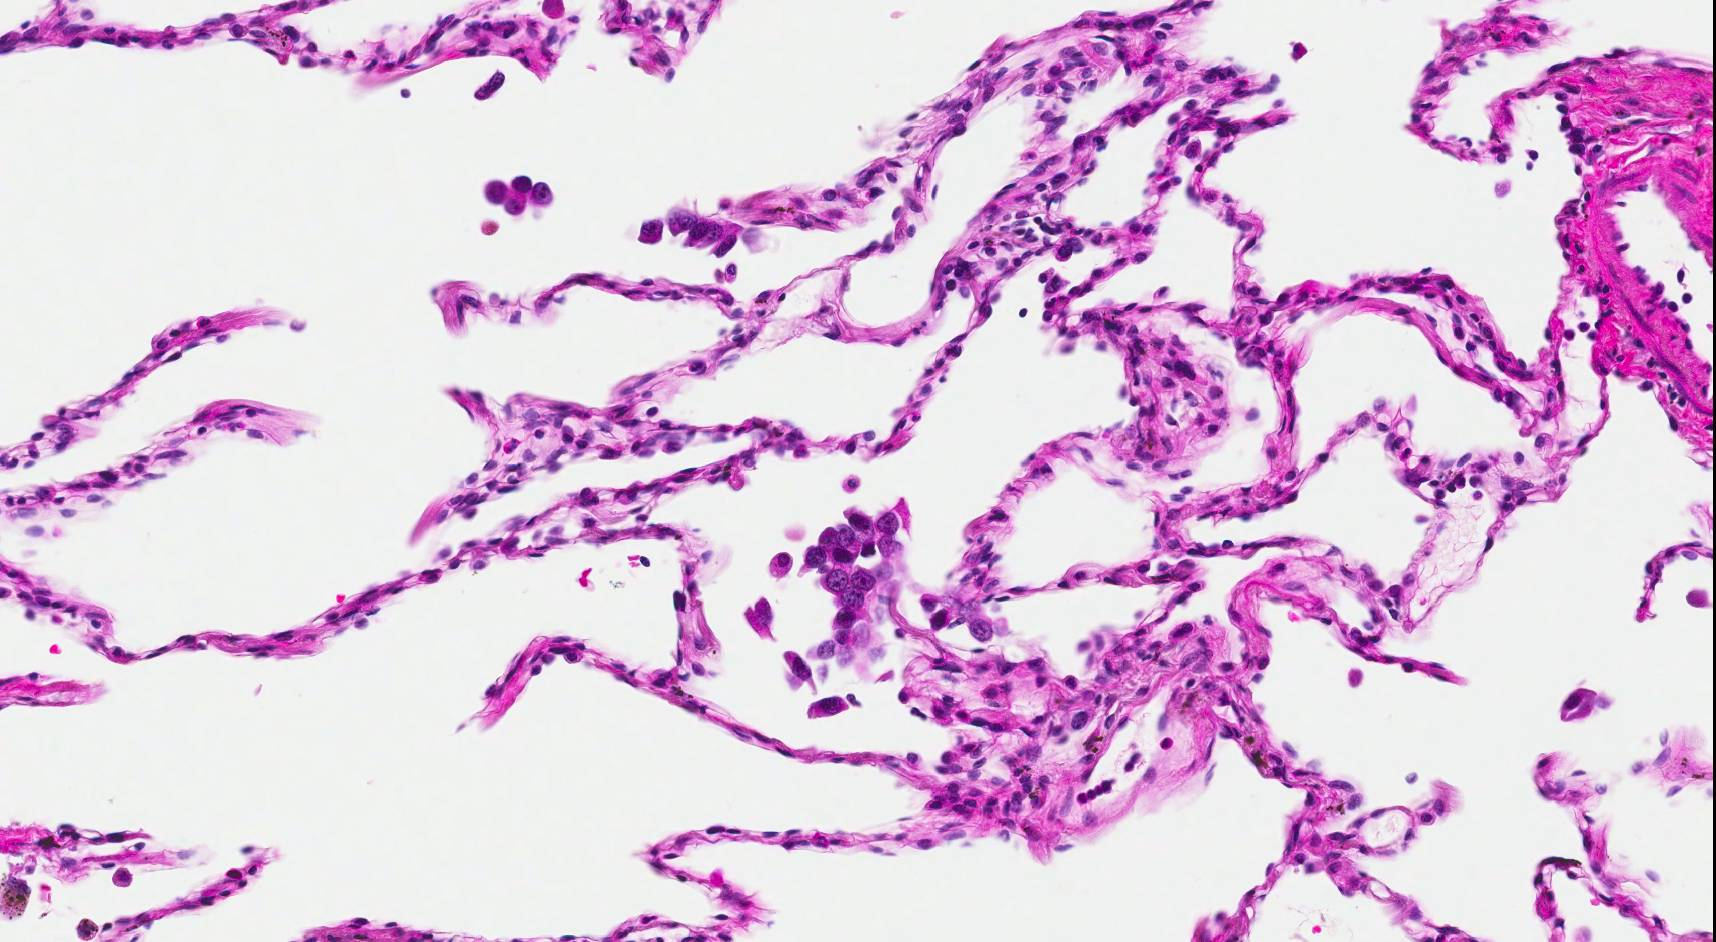stas: (745, 503, 911, 724), (628, 199, 746, 257), (477, 171, 561, 217)
